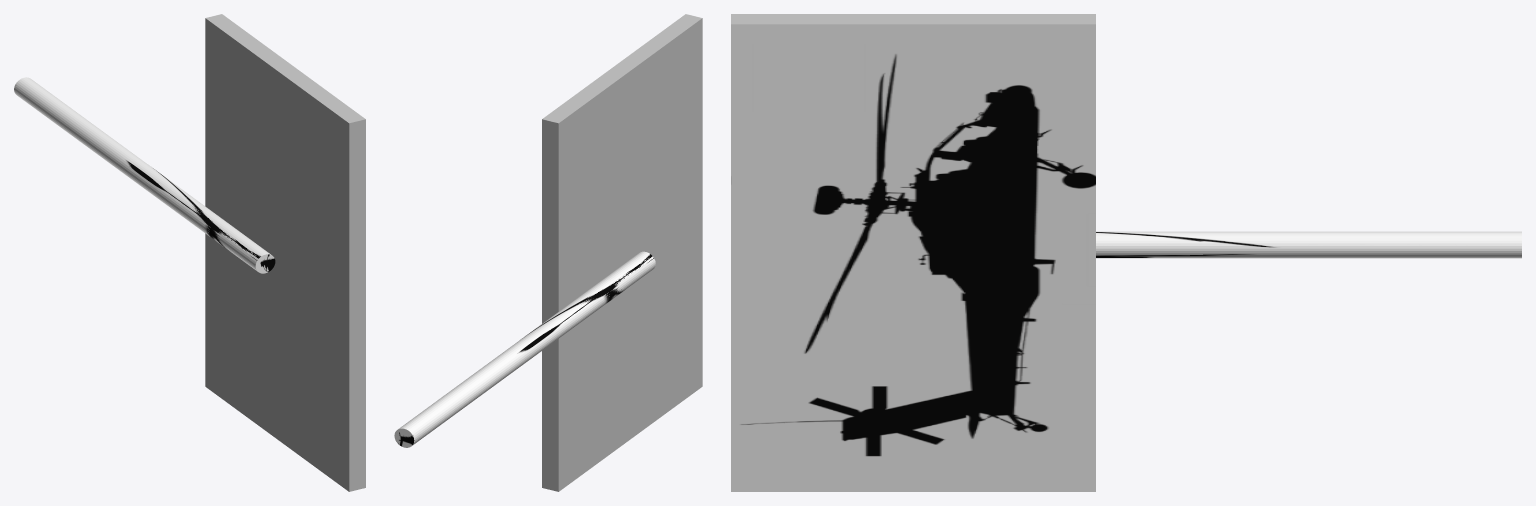
Rendered from apach_friend.obj.
3 views of the same model, side by side, from view 1: azimuth 30°, elevation 25°; view 2: azimuth 150°, elevation 25°; view 3: azimuth 270°, elevation 25° (orthographic). The views are drawn at different scales.
Parts seen in each view (by area): view 1: Cylinder; view 2: Cylinder; view 3: Cylinder.
Boxes of the visible parts, x1,y1,x2,y2 form: Cylinder: (14, 14, 365, 491); Cylinder: (394, 14, 702, 491); Cylinder: (731, 14, 1521, 491).
Bounding box in the file's own units: 0.0479 × 0.42 × 0.6438.
